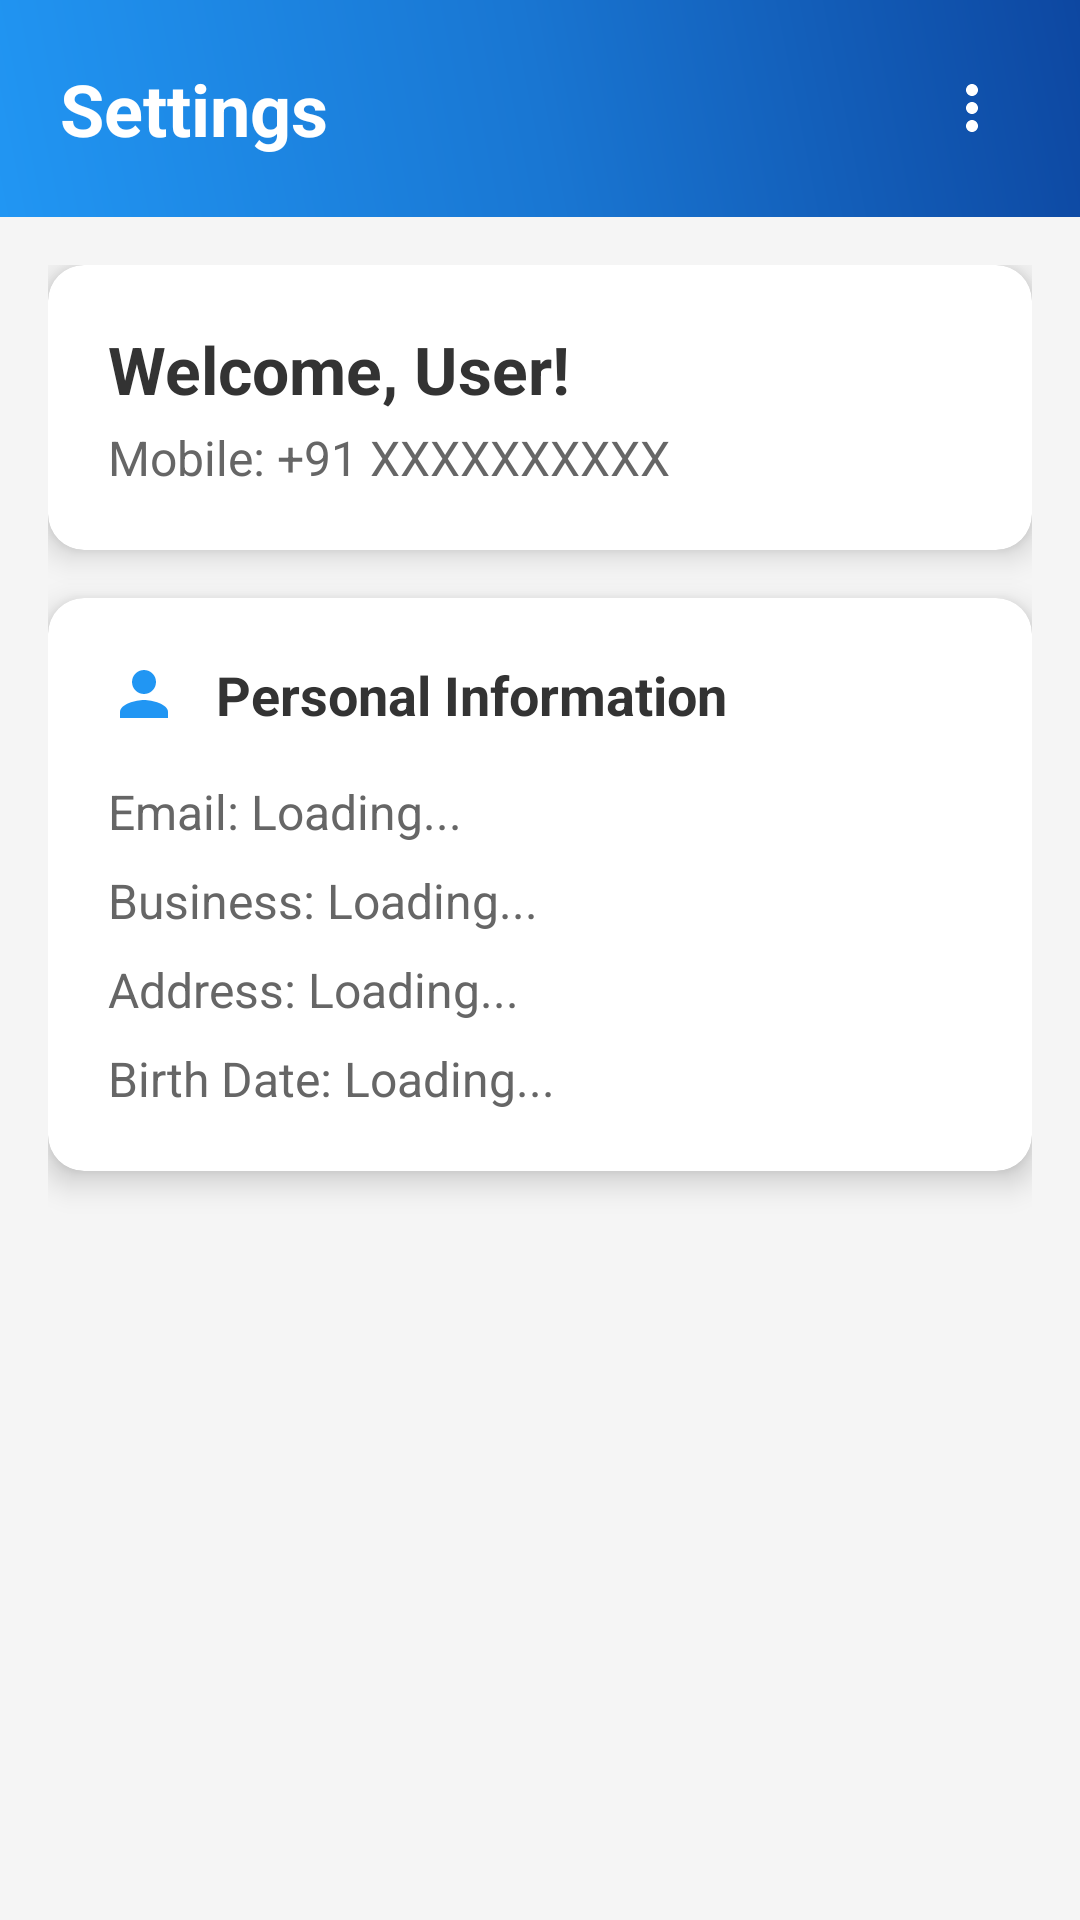

Screen size 1080px x 1920px. Icon name, then its center in pixels as point (x, y):
Menu: point (972, 108)
